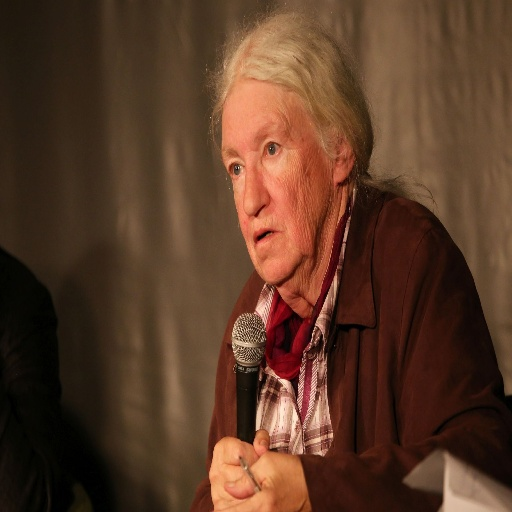hand: (213, 448, 312, 511)
